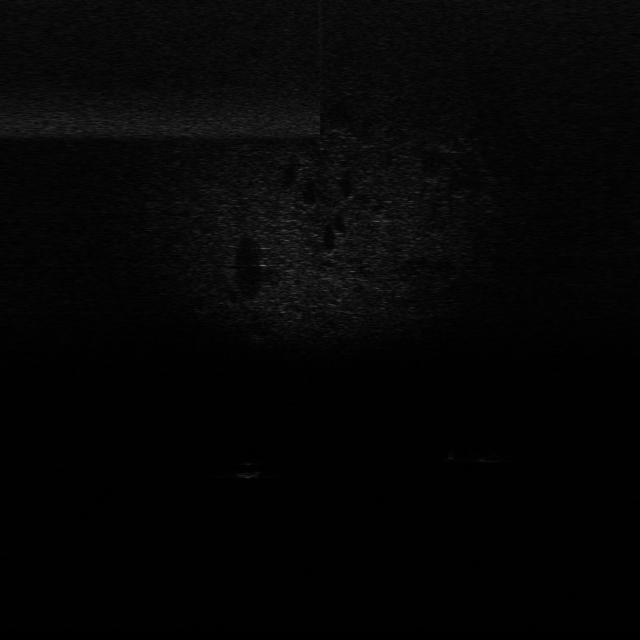ball: (232, 459, 267, 481)
human body: (436, 446, 526, 466)
